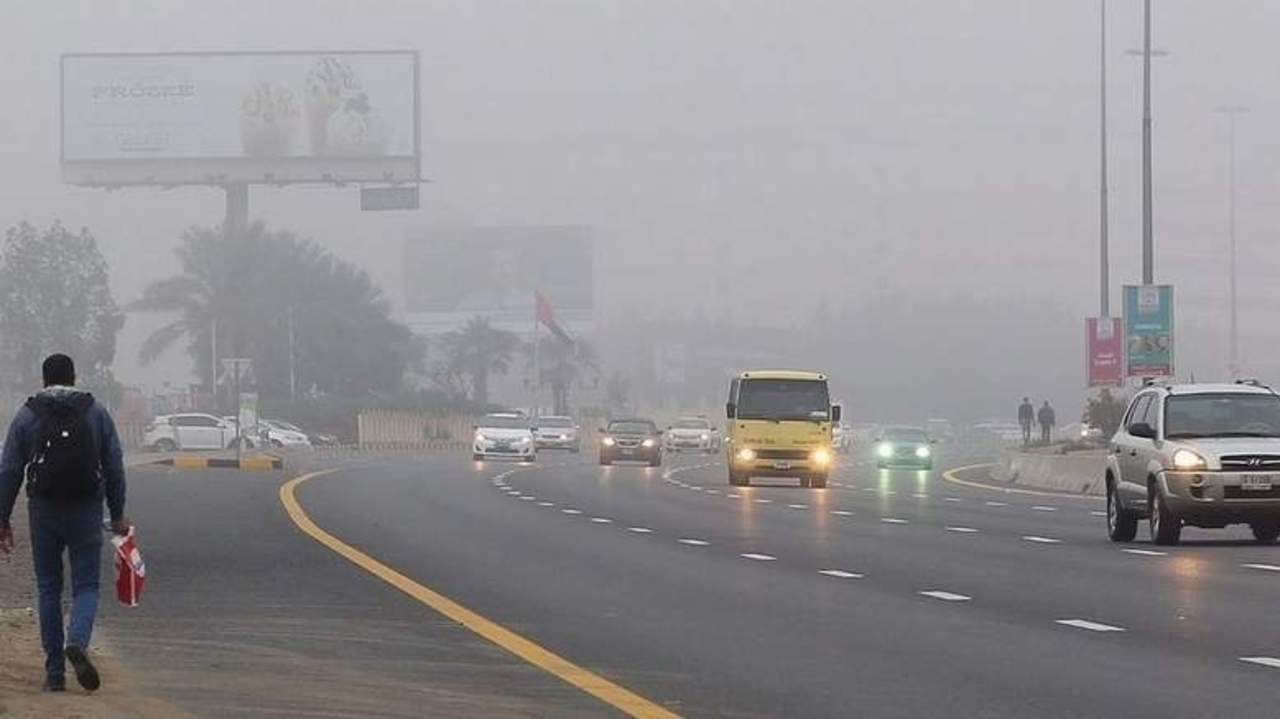bus: (723, 367, 838, 489)
car: (1095, 379, 1279, 546), (140, 414, 270, 453), (598, 417, 660, 465), (231, 411, 304, 448), (872, 426, 935, 467), (471, 425, 536, 460), (532, 411, 581, 454), (664, 419, 716, 453)
person: (5, 356, 133, 691), (1014, 396, 1035, 445), (1037, 397, 1057, 443)
